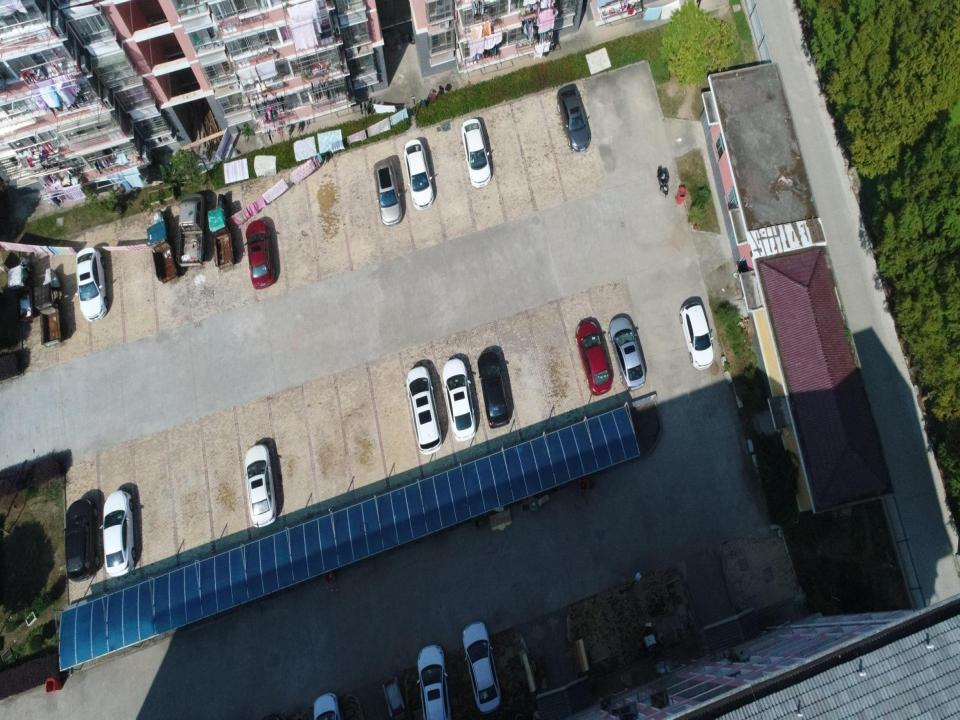car: (462, 620, 501, 714), (99, 490, 136, 577), (406, 366, 442, 455), (62, 498, 98, 582), (574, 321, 612, 396), (442, 358, 476, 441), (608, 317, 646, 391), (243, 444, 276, 528), (416, 646, 452, 720), (478, 350, 510, 428), (75, 247, 108, 322), (556, 84, 591, 152), (680, 303, 714, 370), (244, 219, 276, 290), (404, 139, 434, 210), (461, 118, 491, 188), (374, 159, 402, 226), (313, 693, 341, 719)
truck: (146, 210, 179, 284), (176, 194, 207, 267)
